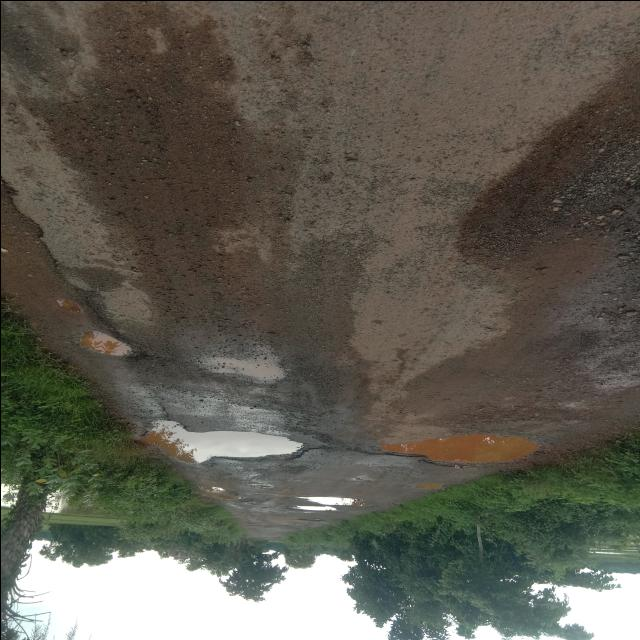potholes: (342, 423, 542, 469), (137, 414, 315, 461), (190, 349, 288, 387), (75, 322, 138, 360), (284, 488, 364, 512), (206, 479, 252, 510)
